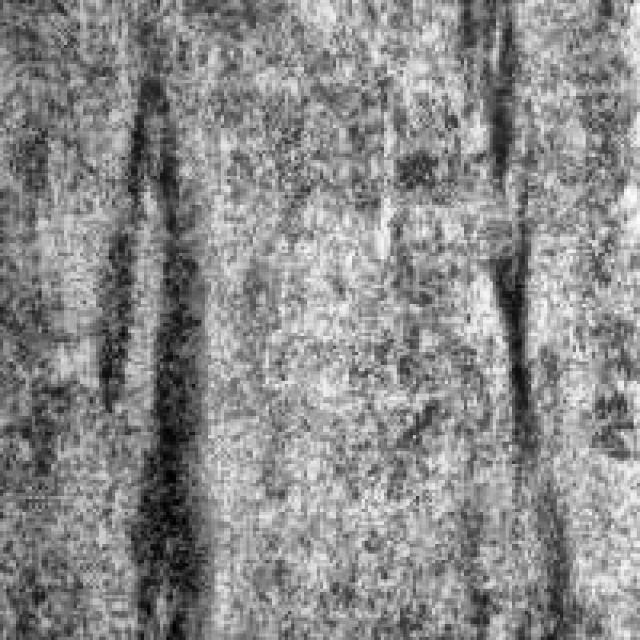Patches: (122, 74, 215, 630), (474, 182, 540, 422)
